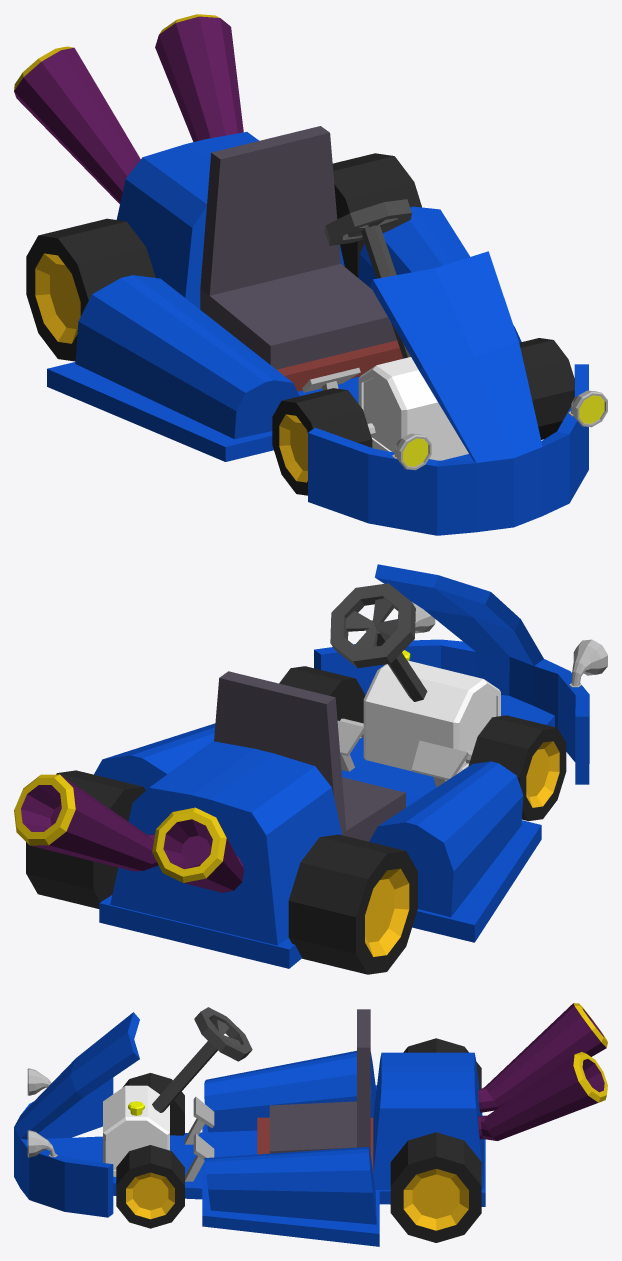
Rendered from go-kart.glb.
3 views of the same model, one above another, from view 1: azimuth 30°, elevation 25°; view 2: azimuth 150°, elevation 25°; view 3: azimuth 270°, elevation 25° (orthographic). The views are drawn at different scales.
Parts seen in each view (by area): view 1: Lights_Kart1.019_Cylinder.050, Wheels1.003_Cylinder.006, Lights_Kart1.021_Cylinder.030, Wheels1.002_Cylinder.003, Wheels1_Cylinder.004, Lights_Kart1.018_Cylinder.049, Pedals1_Cylinder.007; view 2: Lights_Kart1.019_Cylinder.050, Wheels1.003_Cylinder.006, Lights_Kart1.018_Cylinder.049, Lights_Kart1.021_Cylinder.030, Wheels1.002_Cylinder.003, Pedals1_Cylinder.007, Wheels1_Cylinder.004; view 3: Lights_Kart1.019_Cylinder.050, Wheels1.002_Cylinder.003, Wheels1_Cylinder.004, Lights_Kart1.018_Cylinder.049, Pedals1_Cylinder.007, Lights_Kart1.021_Cylinder.030, Wheels1.003_Cylinder.006.
Part boxes in pixels (bbox=[...]): Lights_Kart1.019_Cylinder.050: bbox=[14, 14, 607, 535]; Wheels1.003_Cylinder.006: bbox=[26, 218, 155, 361]; Lights_Kart1.021_Cylinder.030: bbox=[272, 388, 372, 495]; Wheels1.002_Cylinder.003: bbox=[332, 153, 421, 277]; Wheels1_Cylinder.004: bbox=[519, 338, 574, 439]; Lights_Kart1.018_Cylinder.049: bbox=[324, 199, 411, 358]; Pedals1_Cylinder.007: bbox=[302, 367, 360, 392]; Lights_Kart1.019_Cylinder.050: bbox=[14, 564, 607, 968]; Wheels1.003_Cylinder.006: bbox=[288, 834, 417, 974]; Lights_Kart1.018_Cylinder.049: bbox=[330, 583, 427, 701]; Lights_Kart1.021_Cylinder.030: bbox=[468, 715, 566, 821]; Wheels1.002_Cylinder.003: bbox=[26, 770, 145, 908]; Pedals1_Cylinder.007: bbox=[337, 720, 468, 787]; Wheels1_Cylinder.004: bbox=[279, 666, 364, 723]; Lights_Kart1.019_Cylinder.050: bbox=[14, 1003, 607, 1246]; Wheels1.002_Cylinder.003: bbox=[390, 1132, 481, 1242]; Wheels1_Cylinder.004: bbox=[116, 1145, 184, 1228]; Lights_Kart1.018_Cylinder.049: bbox=[152, 1007, 252, 1112]; Pedals1_Cylinder.007: bbox=[184, 1097, 214, 1181]; Lights_Kart1.021_Cylinder.030: bbox=[122, 1073, 184, 1135]; Wheels1.003_Cylinder.006: bbox=[403, 1038, 481, 1089].
Bounding box in the file's own units: 10.53 × 5.62 × 17.74.
